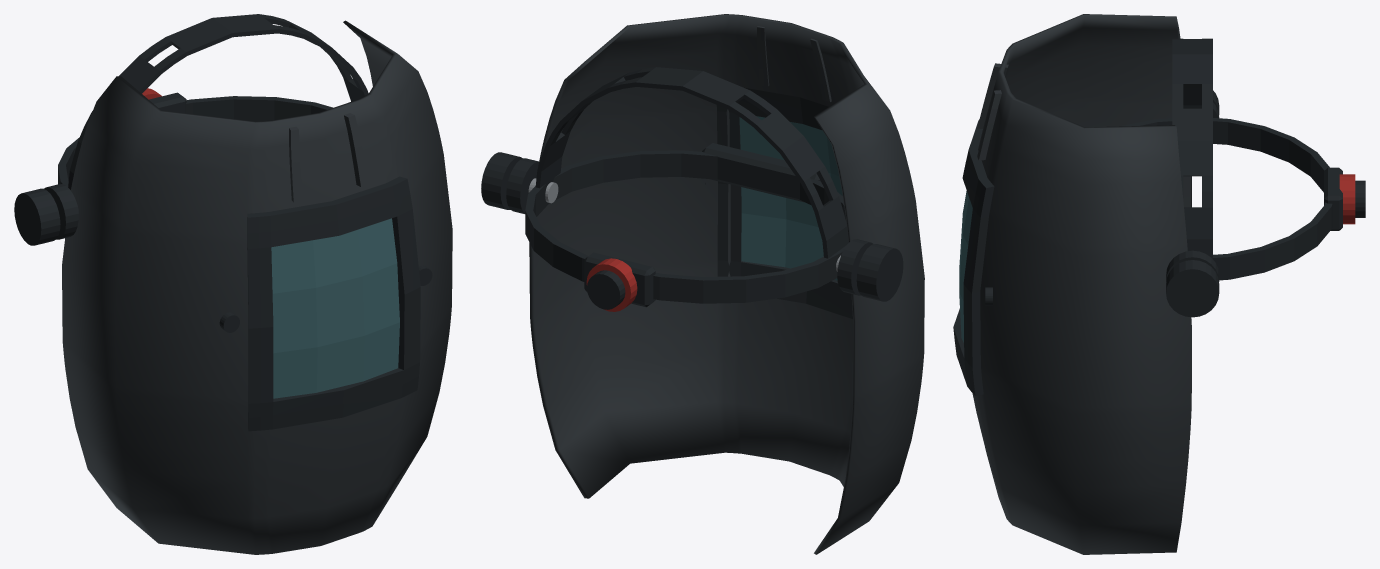
File: full.fbx
3 renders of one model, left to right at view 1: azimuth 30°, elevation 25°; view 2: azimuth 150°, elevation 25°; view 3: azimuth 270°, elevation 25°, orthographic. The views are drawn at different scales.
Parts seen in each view (by area): view 1: Deep curved open back face shell, Opaque inset viewing panel, Thick window surround, Perforated curved crown band, Oval forehead and rear band, Outer tightening knob -1, Side pivot disk -1, Raised forehead ridge 1, Raised forehead ridge -1, Rear headgear support pad; view 2: Deep curved open back face shell, Oval forehead and rear band, Perforated curved crown band, Opaque inset viewing panel, Thick window surround, Front dark forehead pad, Outer tightening knob -1, Outer tightening knob 1, Rear headgear support pad, Side pivot disk 1, Rear adjustment knob, Side pivot disk -1 (+3 smaller); view 3: Deep curved open back face shell, Perforated curved crown band, Oval forehead and rear band, Thick window surround, Outer tightening knob 1, Opaque inset viewing panel, Rear headgear support pad, Rear red adjuster rim, Raised forehead ridge 1, Side pivot disk 1.
Boxes of the visible parts, x1,y1,x2,y2 form: Deep curved open back face shell: [62, 20, 452, 554]; Opaque inset viewing panel: [271, 218, 399, 398]; Thick window surround: [247, 176, 420, 431]; Perforated curved crown band: [68, 14, 368, 189]; Oval forehead and rear band: [58, 96, 333, 190]; Outer tightening knob -1: [14, 188, 60, 245]; Side pivot disk -1: [44, 184, 78, 239]; Raised forehead ridge 1: [344, 113, 368, 186]; Raised forehead ridge -1: [289, 126, 302, 202]; Rear headgear support pad: [149, 92, 186, 113]; Deep curved open back face shell: [529, 14, 924, 554]; Oval forehead and rear band: [525, 150, 846, 303]; Perforated curved crown band: [535, 67, 848, 258]; Opaque inset viewing panel: [739, 116, 842, 280]; Thick window surround: [716, 87, 852, 318]; Front dark forehead pad: [702, 143, 820, 202]; Outer tightening knob -1: [856, 244, 903, 301]; Outer tightening knob 1: [481, 152, 522, 209]; Rear headgear support pad: [584, 252, 655, 307]; Side pivot disk 1: [506, 158, 538, 213]; Rear adjustment knob: [587, 270, 625, 309]; Side pivot disk -1: [837, 239, 872, 295]; Deep curved open back face shell: [972, 14, 1191, 554]; Perforated curved crown band: [1172, 38, 1212, 257]; Oval forehead and rear band: [1120, 118, 1332, 280]; Thick window surround: [953, 119, 994, 395]; Outer tightening knob 1: [1166, 260, 1219, 317]; Opaque inset viewing panel: [959, 191, 972, 342]; Rear headgear support pad: [1324, 167, 1342, 230]; Rear red adjuster rim: [1339, 174, 1355, 224]; Raised forehead ridge 1: [977, 90, 1001, 160]; Side pivot disk 1: [1166, 250, 1219, 281].
Bounding box in the file's own units: 28.4 × 31.2 × 26.33.
